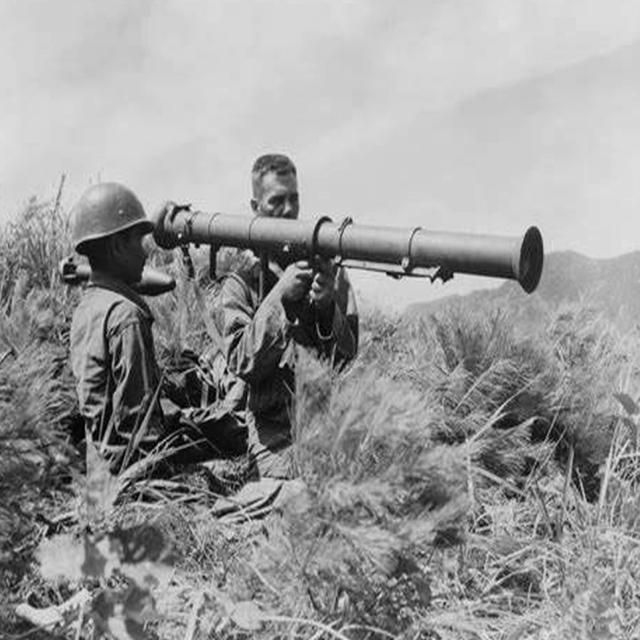Weapon: (155, 205, 542, 293)
